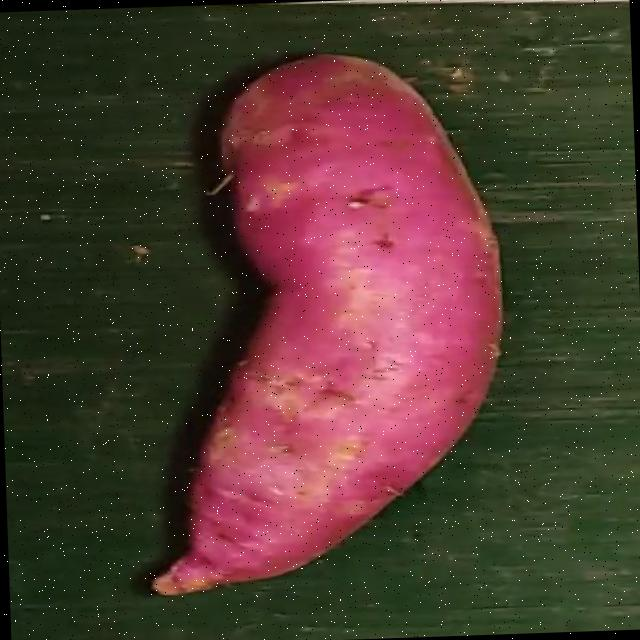Sweet Potato: (150, 54, 507, 597)
